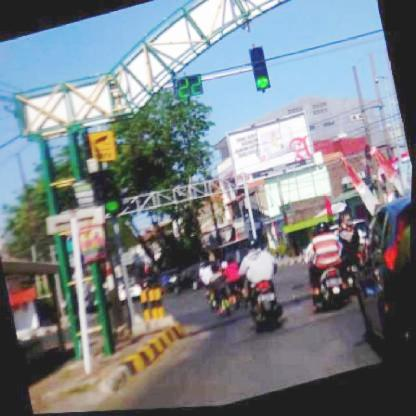Traffic Light -Green-: (96, 168, 123, 218), (247, 47, 273, 94)
